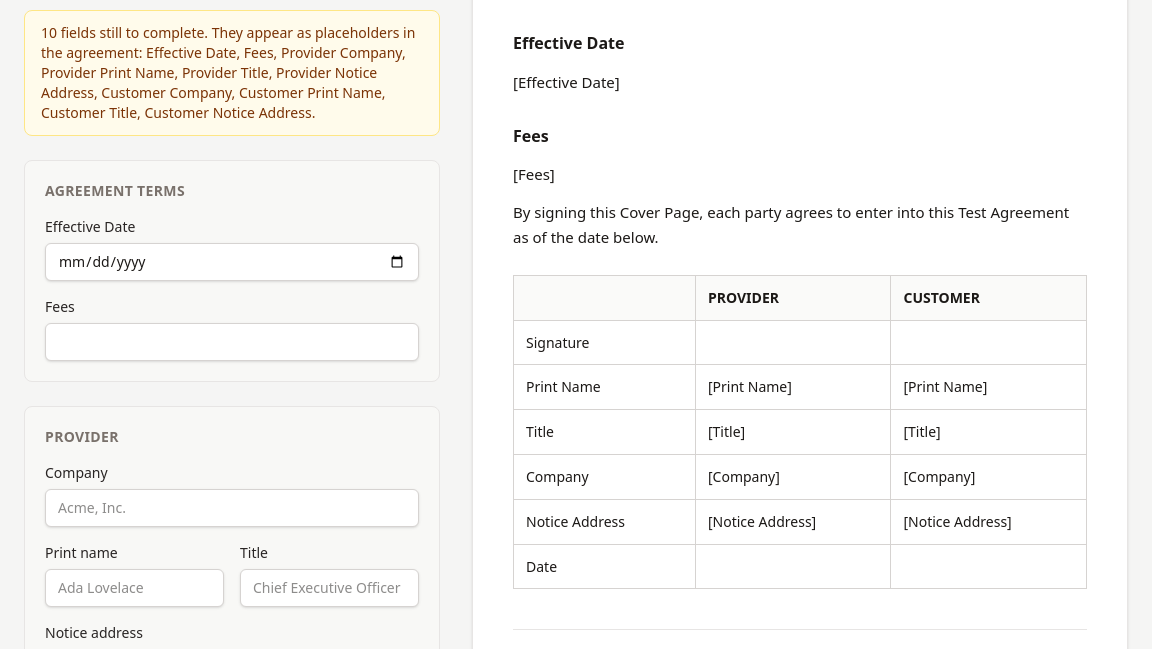
Scenario: DocumentBuilder › updates the agreement as the user types
(page scrolled)
Type "$1,000/month" into the field labelled "Fees" at (232, 342), box [45, 323, 419, 361]
(page scrolled)
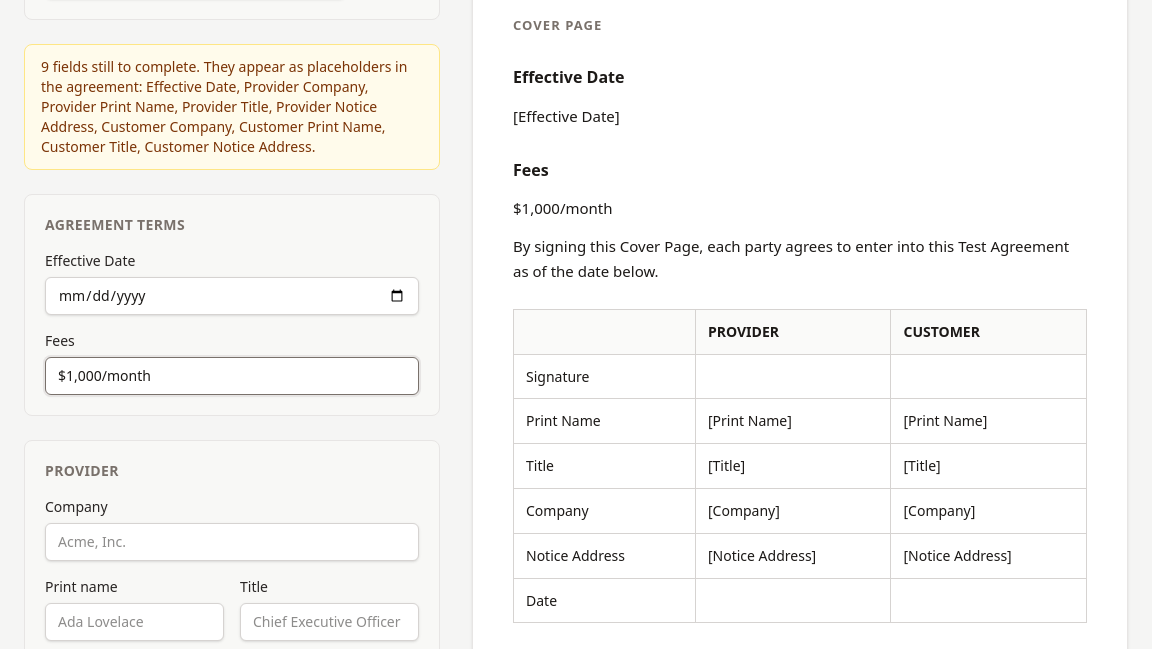
Now the element named "agreement preview" shows "$1,000/month", box [513, 198, 613, 218]
